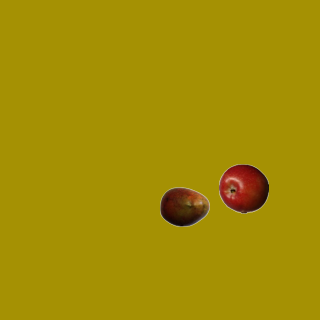Apple Braeburn: (218, 163, 268, 213)
Mango Red: (159, 181, 209, 231)
